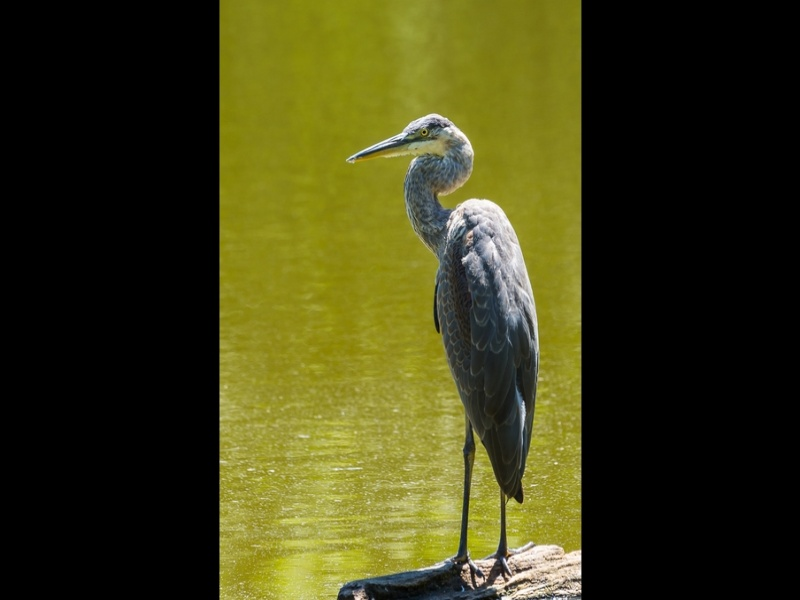heron: (345, 111, 543, 578)
